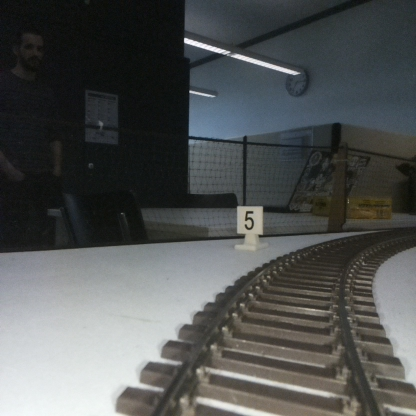white-stop-5: (237, 206, 262, 248)
